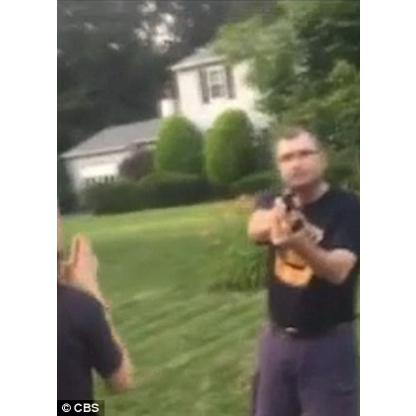gun: (270, 186, 314, 245)
